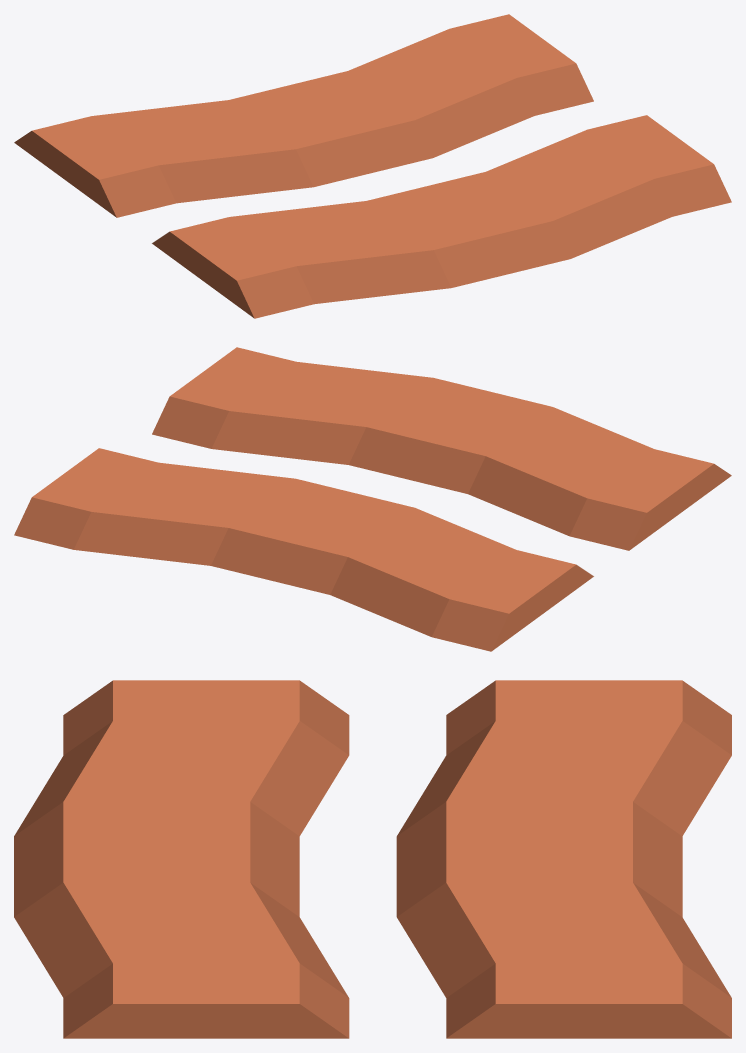
The picture shows the model from 3 angles, top to bottom: view 1: azimuth 30°, elevation 25°; view 2: azimuth 150°, elevation 25°; view 3: azimuth 270°, elevation 25°; orthographic projection. The views are drawn at different scales.
Parts seen in each view (by area): view 1: crops_dirtDoubleRow; view 2: crops_dirtDoubleRow; view 3: crops_dirtDoubleRow.
Part boxes in pixels (box(x1,y1,x2,y2)): crops_dirtDoubleRow: box(14, 14, 731, 318); crops_dirtDoubleRow: box(14, 347, 731, 651); crops_dirtDoubleRow: box(14, 680, 731, 1038).
Bounding box in the file's own units: 1 × 0.05 × 0.938.
